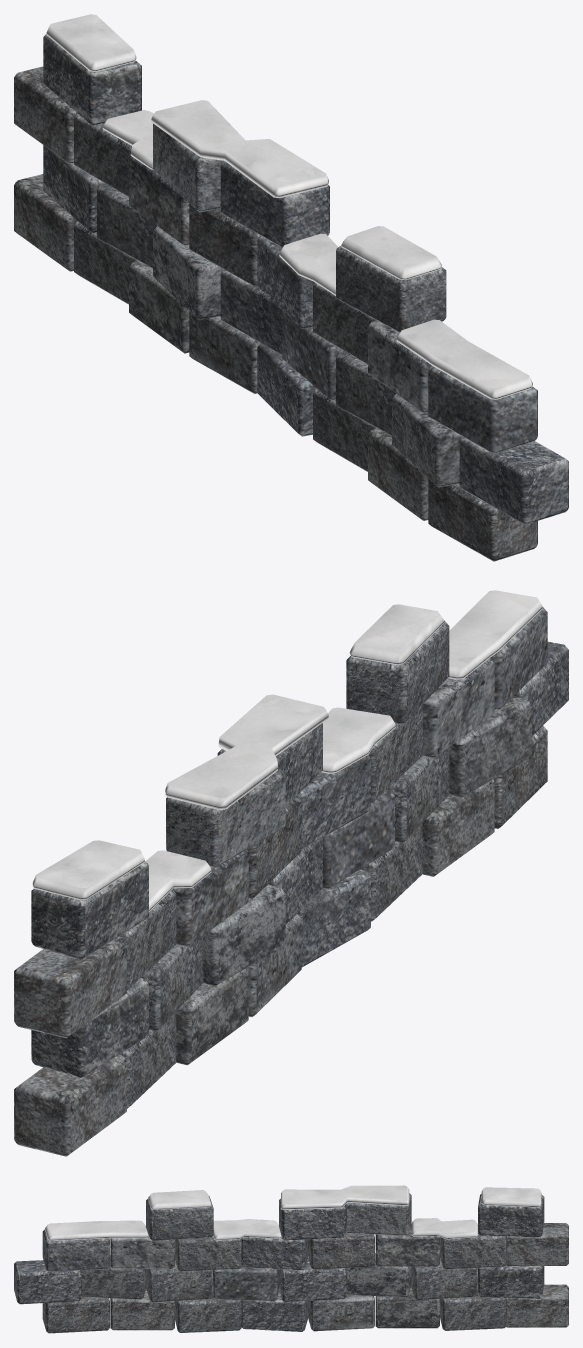
Rendered from StoneWallASnow.fbx.
The picture shows the model from 3 angles, top to bottom: view 1: azimuth 30°, elevation 25°; view 2: azimuth 150°, elevation 25°; view 3: azimuth 270°, elevation 25°; orthographic projection. The views are drawn at different scales.
Parts seen in each view (by area): view 1: StoneWallASnow; view 2: StoneWallASnow; view 3: StoneWallASnow.
Boxes of the visible parts, x1,y1,x2,y2 form: StoneWallASnow: (14, 14, 568, 561); StoneWallASnow: (14, 590, 568, 1156); StoneWallASnow: (14, 1185, 568, 1333).
Bounding box in the file's own units: 63.04 × 159 × 621.
